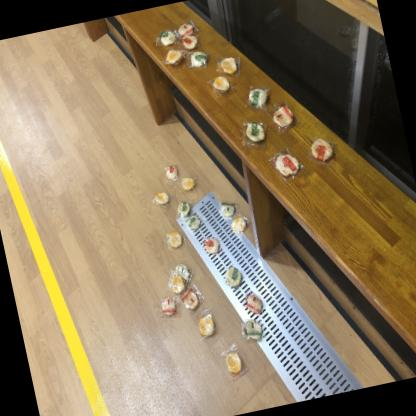green_setoshio: (238, 115, 270, 151), (238, 314, 266, 346), (242, 82, 272, 110), (223, 262, 245, 291), (152, 26, 176, 50), (172, 196, 194, 219), (172, 255, 194, 276), (186, 49, 210, 68), (184, 212, 204, 234), (217, 198, 237, 219)
red_setoshio: (269, 147, 303, 182), (304, 135, 335, 165), (270, 100, 298, 129), (179, 288, 204, 314), (156, 293, 180, 320), (199, 232, 223, 258), (242, 290, 266, 315), (172, 18, 196, 39), (162, 162, 180, 186), (180, 30, 200, 51)
yellow_setoshio: (219, 340, 247, 379), (161, 224, 189, 256), (192, 310, 218, 340), (214, 52, 242, 78), (160, 44, 185, 70), (207, 73, 233, 98), (227, 213, 251, 236), (148, 187, 172, 210), (178, 171, 200, 195), (166, 276, 186, 294)
